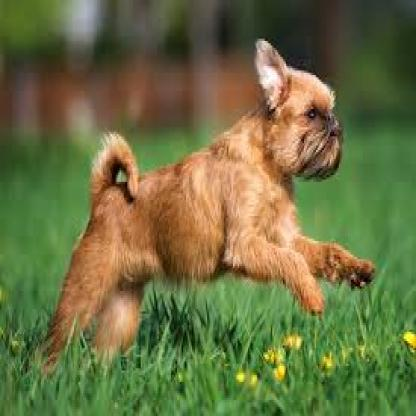Griffon Bruxellois: (27, 15, 382, 373)
